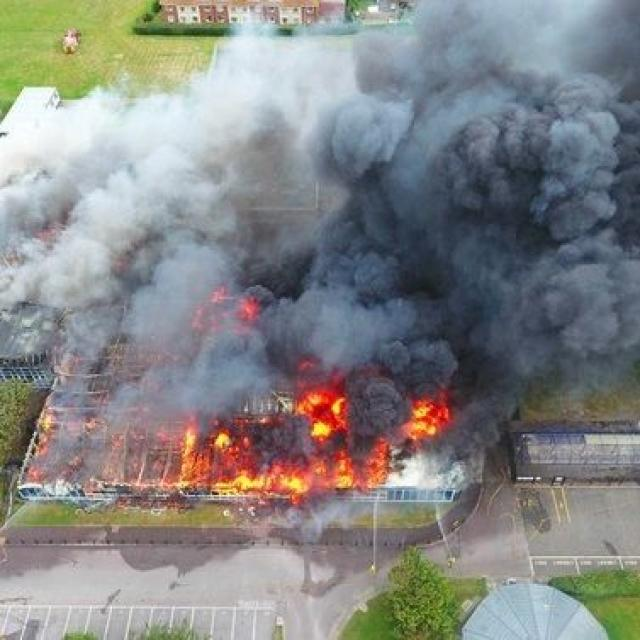Fire: (35, 339, 472, 498)
Smoke: (29, 13, 640, 345)
